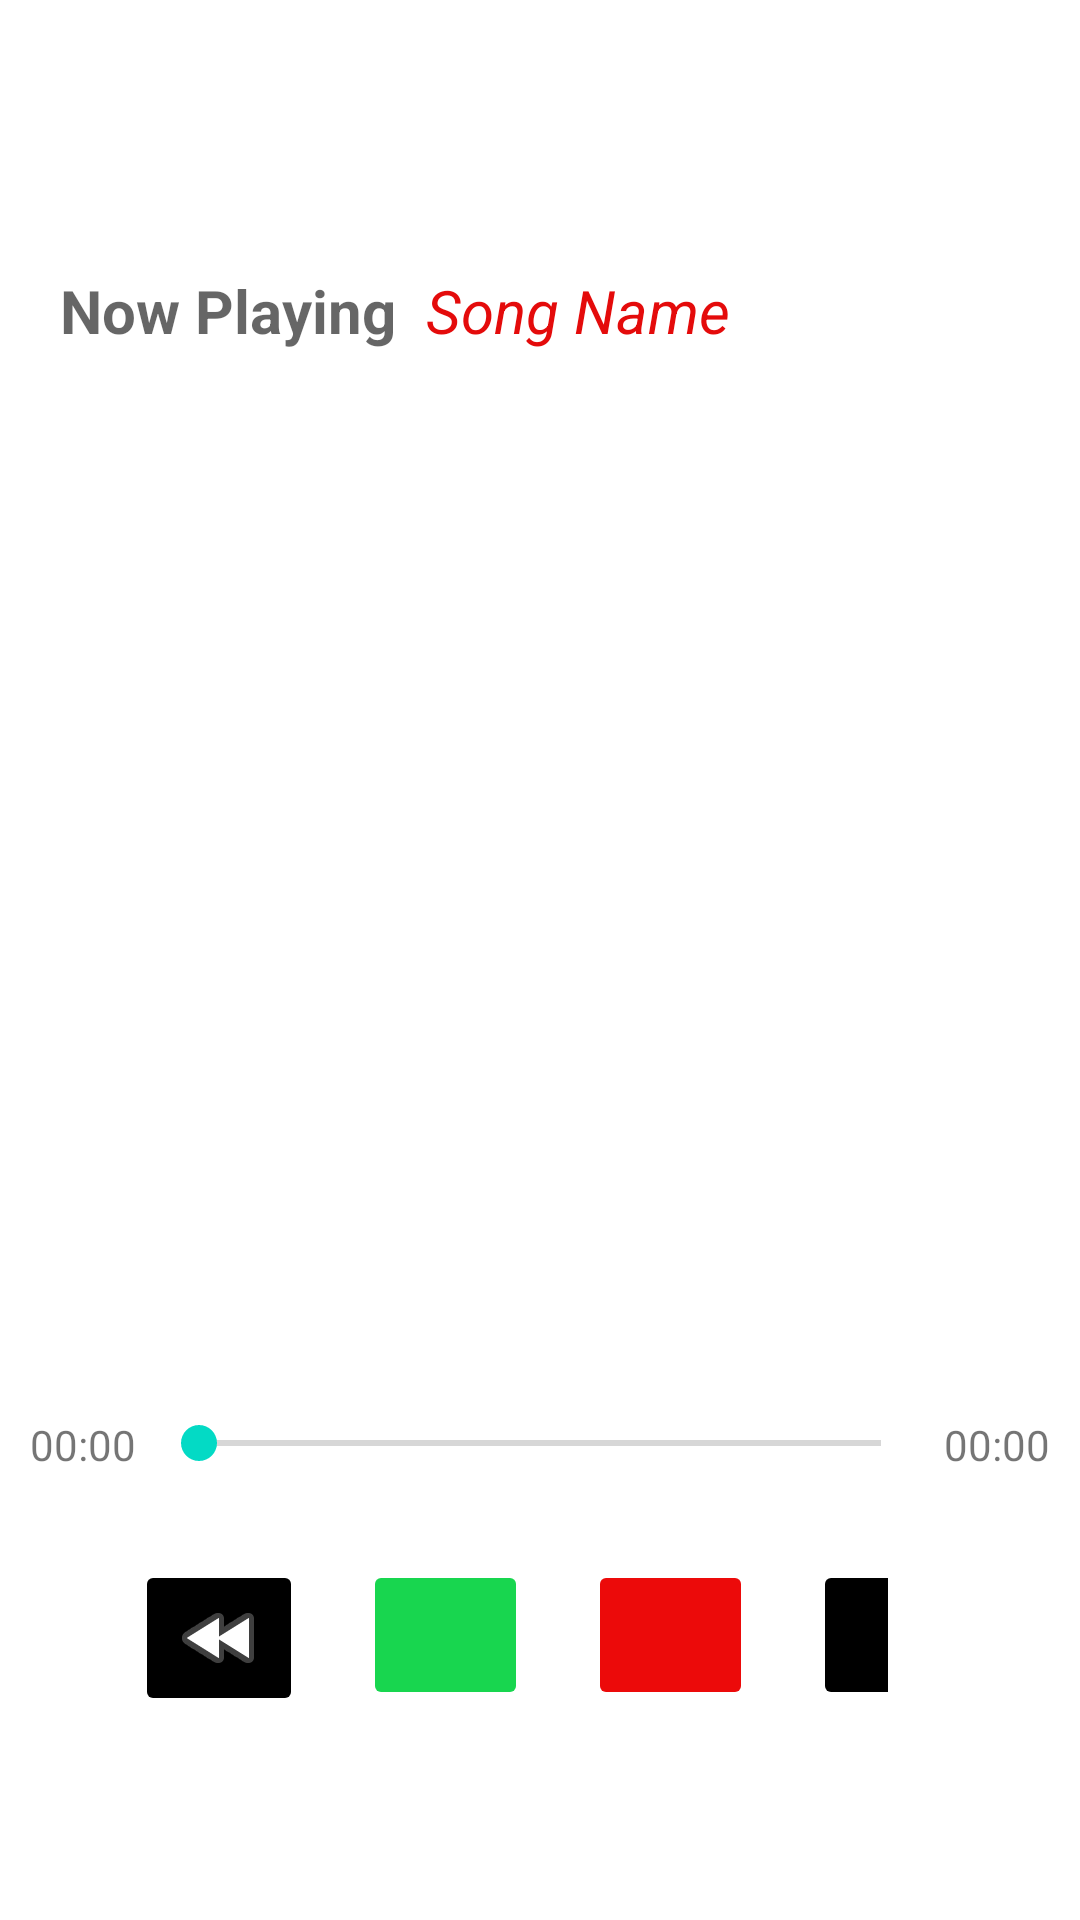

Screen size 1080x1920. Icon name, then its center in pixels as point (x, y):
rew: point (219, 1638)
